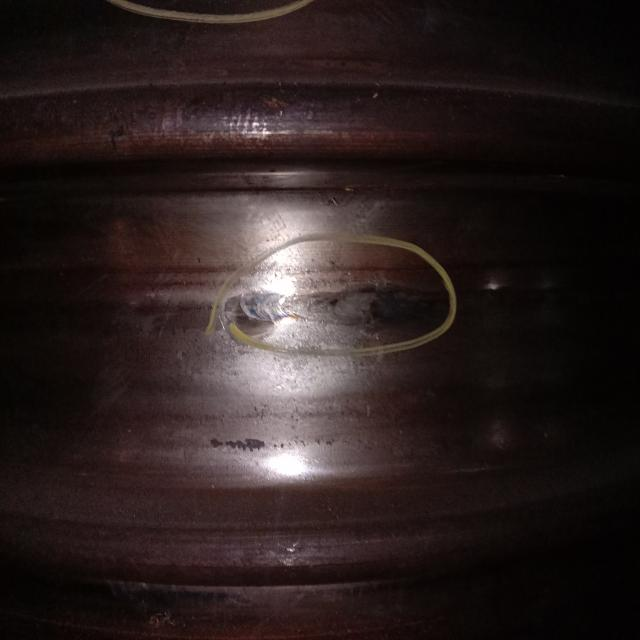flat: (239, 284, 434, 328)
